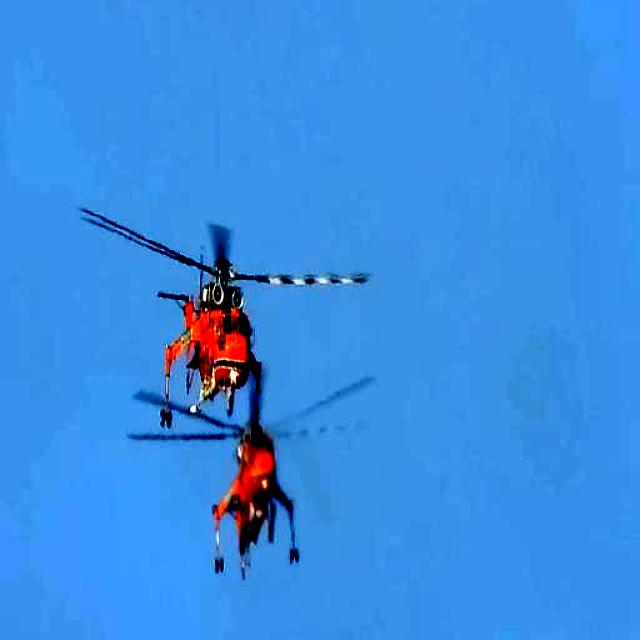drone: (84, 181, 374, 391), (169, 400, 329, 584)
